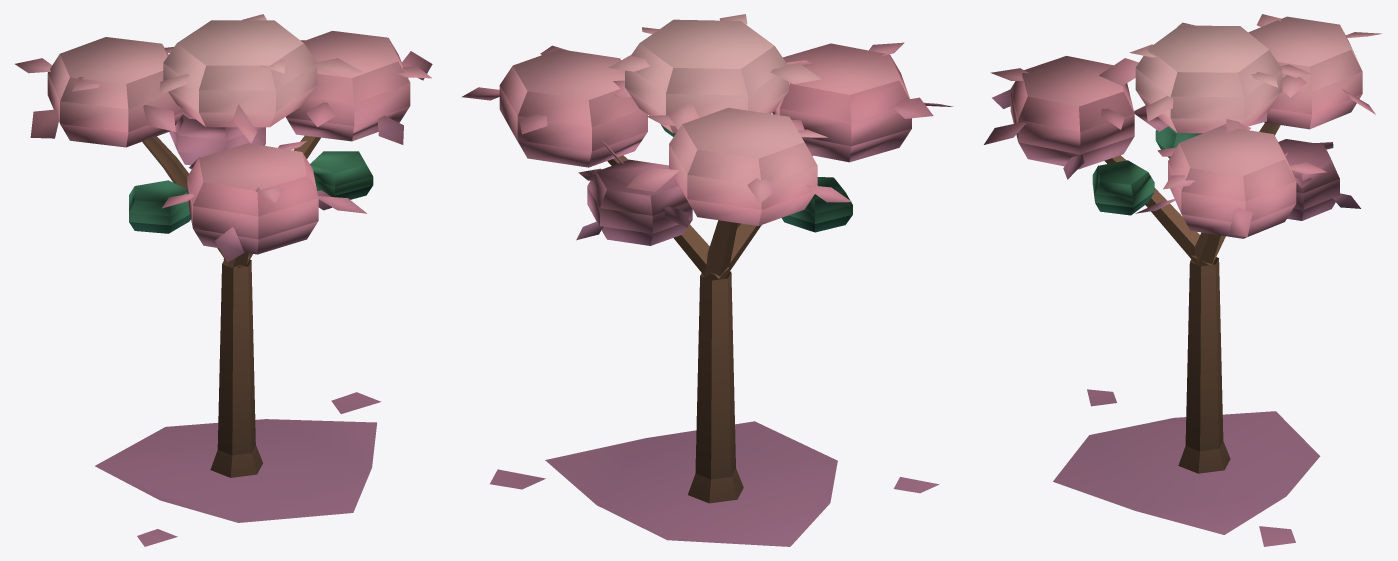
File: custom-ipe-rosa.glb
3 views of the same model, side by side, from view 1: azimuth 30°, elevation 25°; view 2: azimuth 150°, elevation 25°; view 3: azimuth 270°, elevation 25° (orthographic). The views are drawn at different scales.
Visible parts, largest first — view 1: ipe-rosa, flores-caidas; view 2: ipe-rosa, flores-caidas; view 3: ipe-rosa, flores-caidas.
Part boxes in pixels (x1,y1,x2,y2): ipe-rosa: (15,14,432,477); flores-caidas: (95,392,381,546); ipe-rosa: (462,14,952,503); flores-caidas: (490,421,939,546); ipe-rosa: (984,14,1382,473); flores-caidas: (1053,389,1320,546).
Size of the model in its own units: 9.79 by 10.25 by 8.9.
